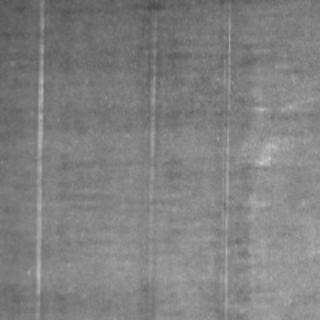scratches: (27, 5, 49, 313)
